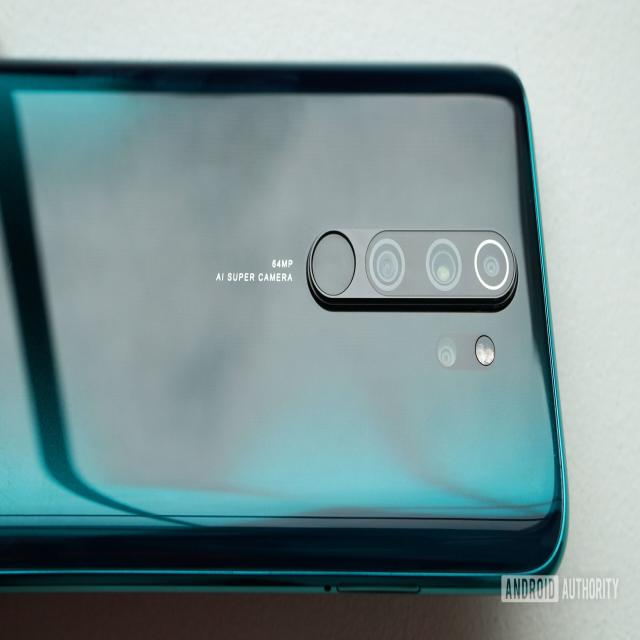Red Mi Note 8 Pro: (0, 60, 571, 596)
